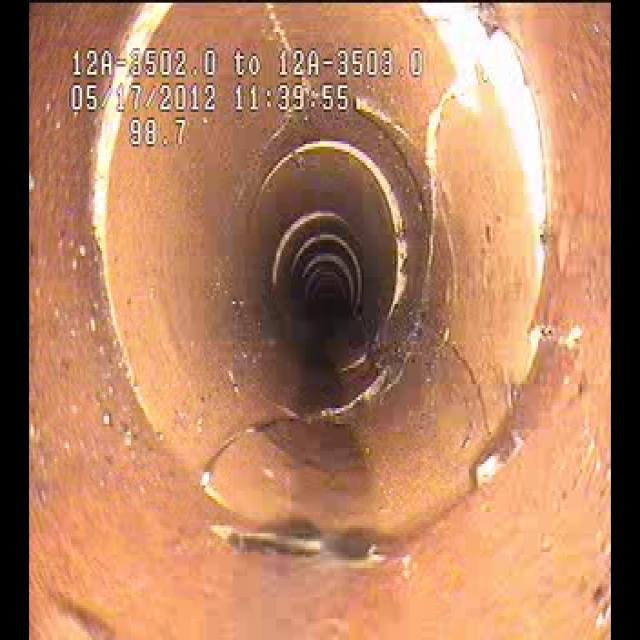Fracture: (196, 357, 452, 489)
